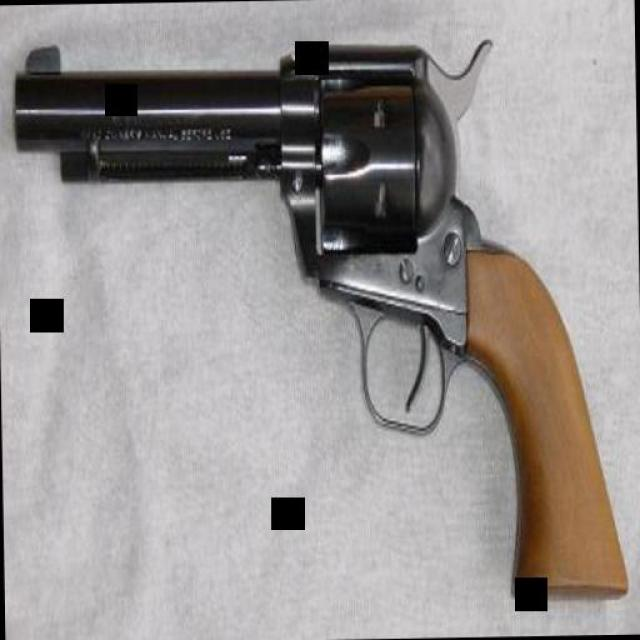gun: (10, 29, 628, 611)
